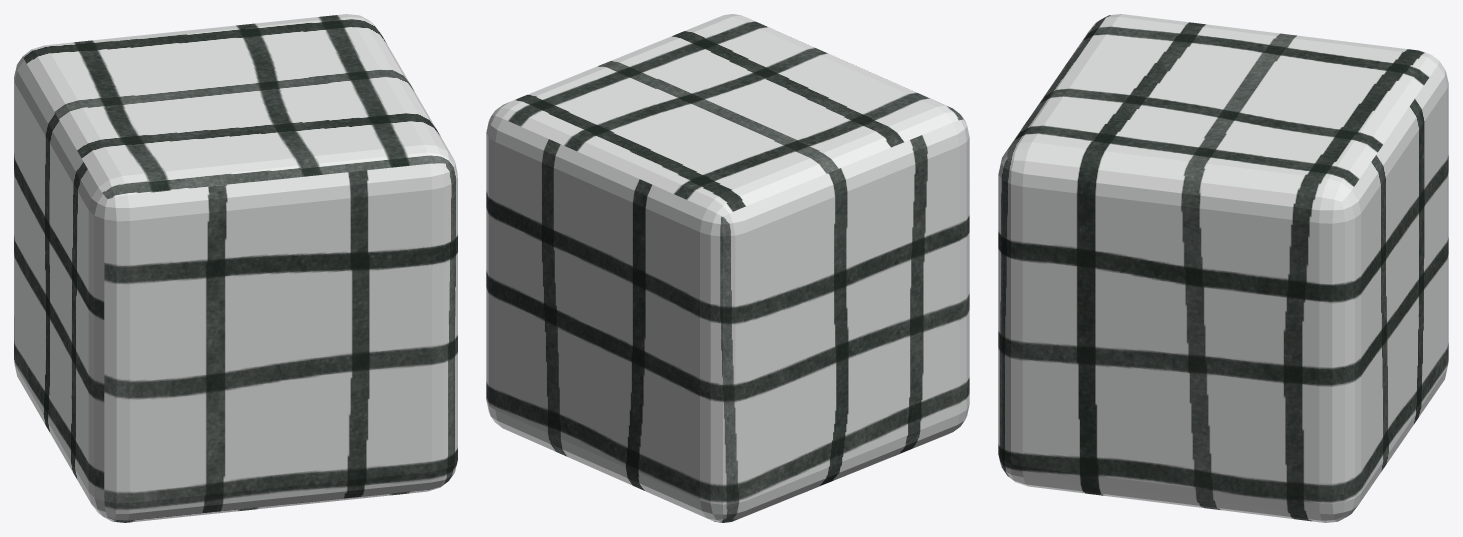
File: 010_Shadow_Box_03.fbx
3 views of the same model, side by side, from view 1: azimuth 30°, elevation 25°; view 2: azimuth 150°, elevation 25°; view 3: azimuth 270°, elevation 25° (orthographic). The views are drawn at different scales.
Visible parts, largest first — view 1: Cube.023; view 2: Cube.023; view 3: Cube.023.
Boxes of the visible parts, x1,y1,x2,y2 form: Cube.023: (14, 14, 457, 522); Cube.023: (486, 14, 969, 522); Cube.023: (998, 14, 1448, 522).
Size of the model in its own units: 135 by 113 by 135.
